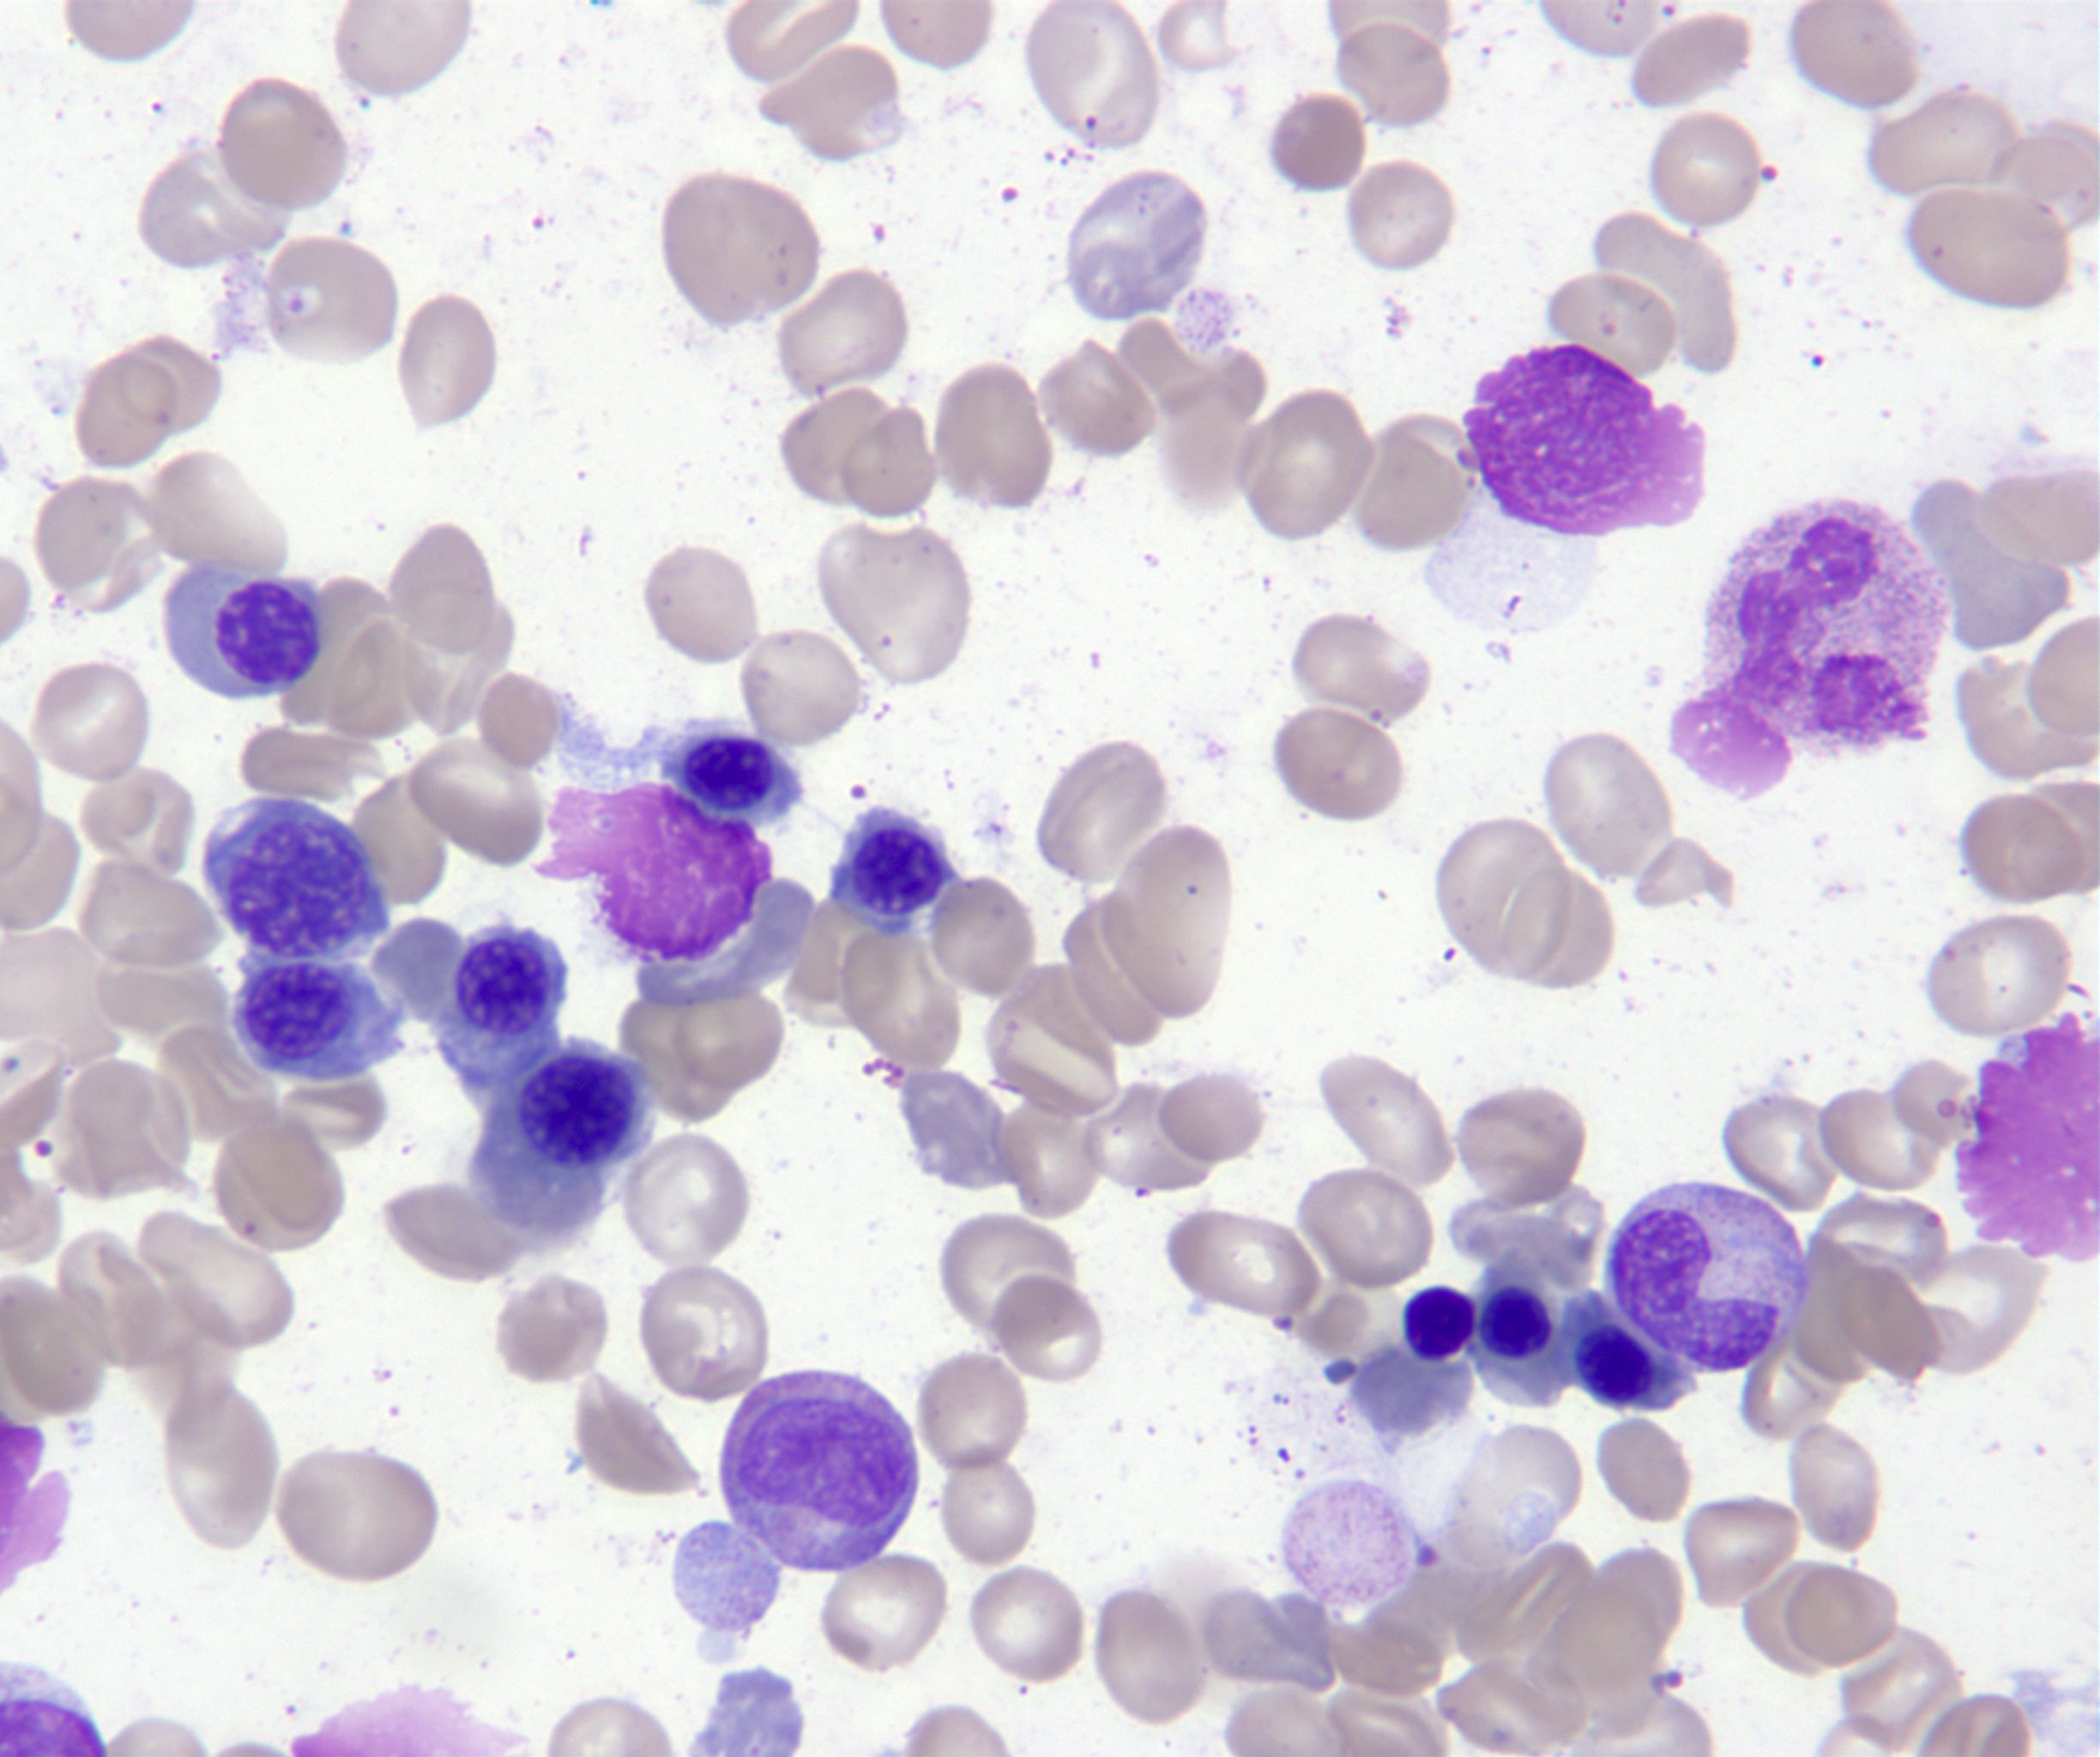24: (469, 1038, 654, 1235), (204, 796, 391, 963), (228, 951, 408, 1082), (429, 920, 569, 1082), (167, 564, 321, 701), (1462, 1256, 1575, 1408), (828, 808, 961, 937), (1563, 1291, 1701, 1412), (658, 719, 804, 824)
3: (722, 1371, 916, 1574)
4: (1606, 1183, 1807, 1371)
6: (1704, 497, 1952, 755)
x: (1467, 344, 1706, 536), (537, 783, 771, 965), (1955, 1007, 2100, 1260), (1406, 1286, 1477, 1363)
